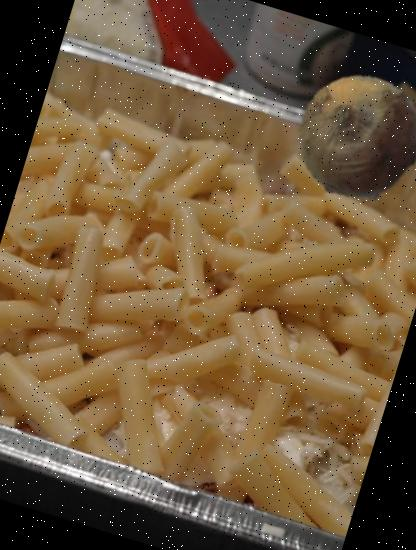Onion: (278, 57, 416, 219)
